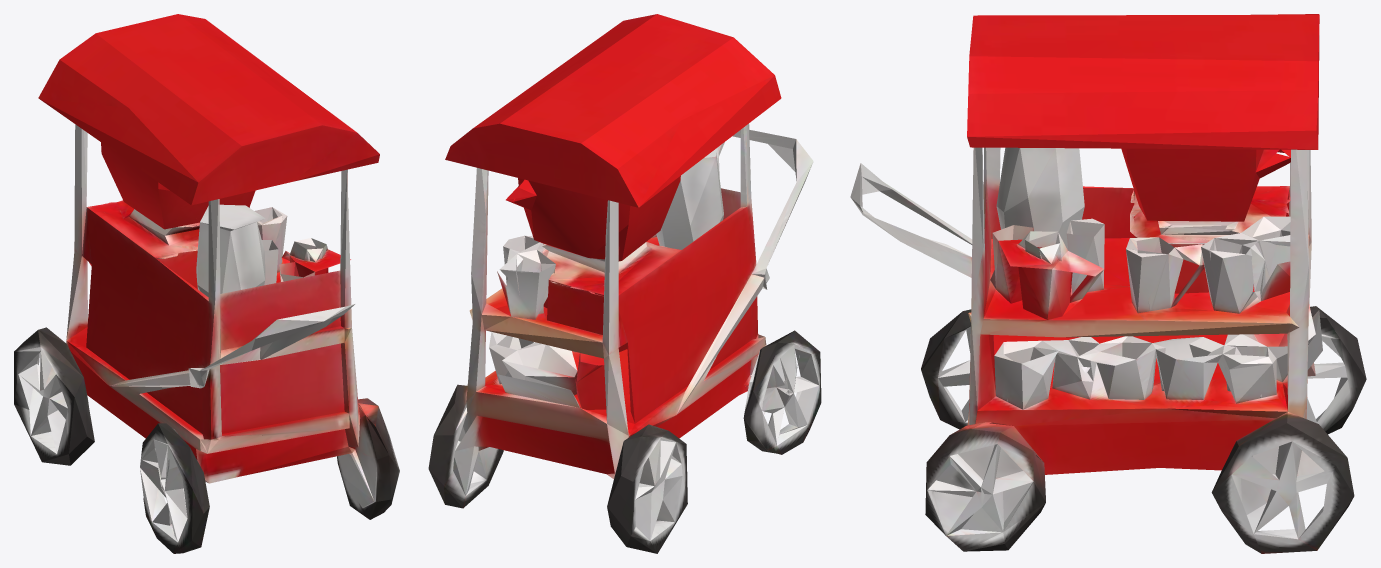
File: coffeeCart.glb
3 views of the same model, side by side, from view 1: azimuth 30°, elevation 25°; view 2: azimuth 150°, elevation 25°; view 3: azimuth 270°, elevation 25° (orthographic). The views are drawn at different scales.
Visible parts, largest first — view 1: model; view 2: model; view 3: model.
Boxes of the visible parts, x1,y1,x2,y2 form: model: (14, 14, 399, 553); model: (428, 14, 821, 553); model: (850, 14, 1366, 553).
Size of the model in its own units: 1.05 by 1.9 by 1.9.
1 material, 1 textured.
